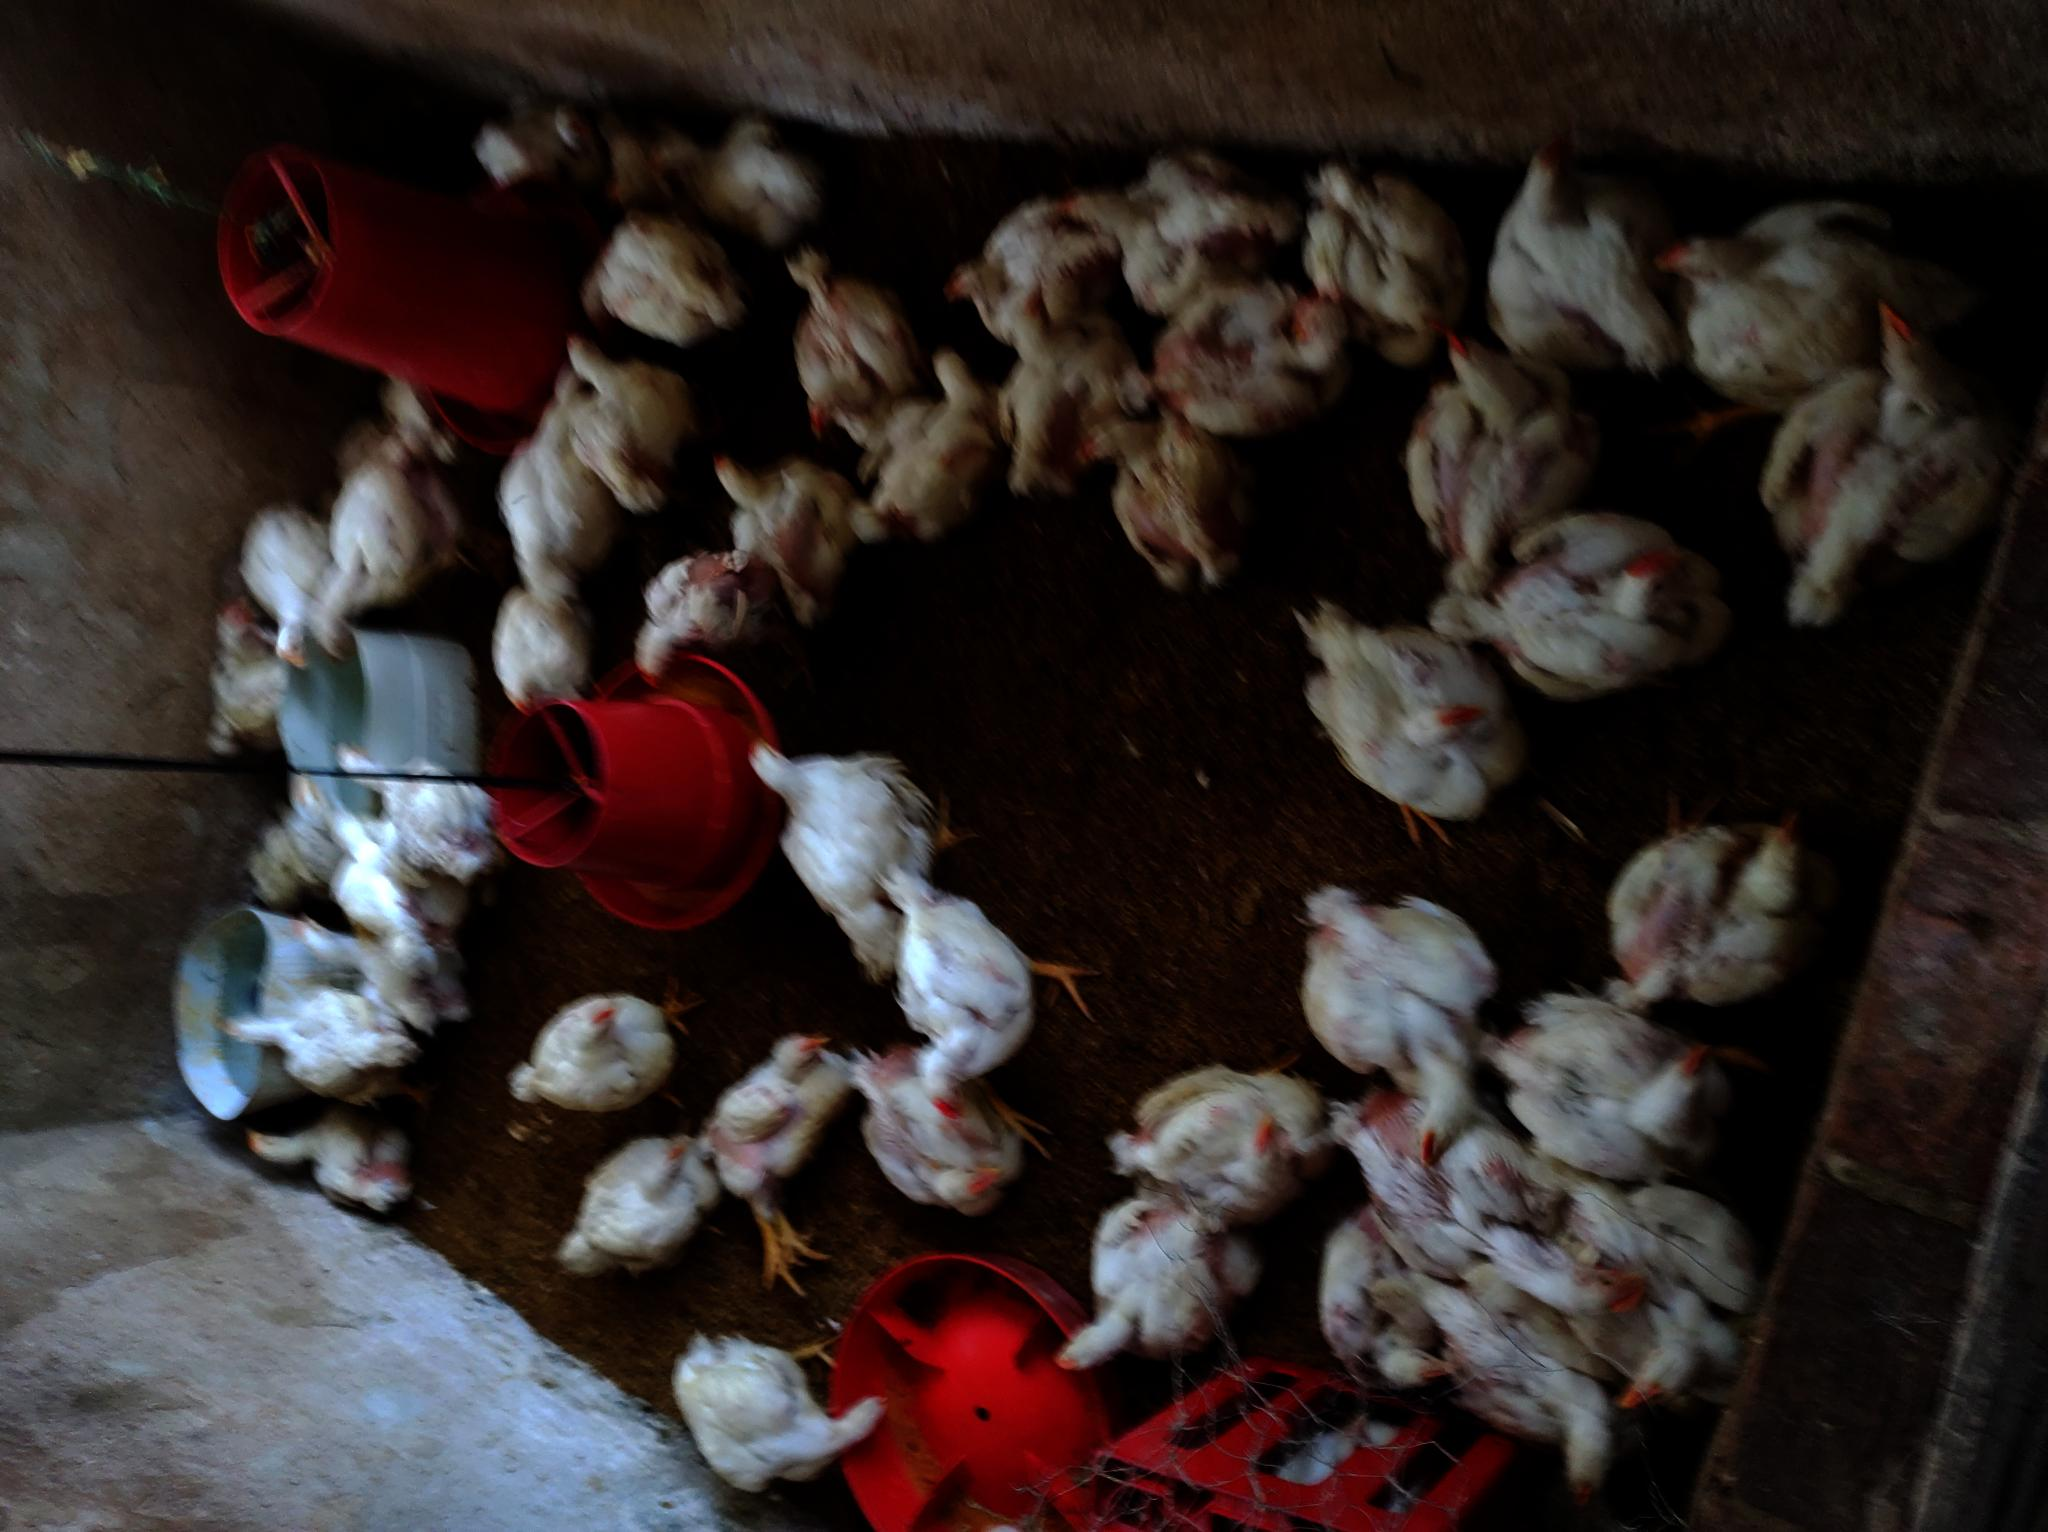Pollos: (1646, 185, 1969, 409), (1760, 291, 1977, 618), (1367, 1115, 1647, 1344), (1414, 1241, 1651, 1497), (1293, 877, 1487, 1165), (1445, 505, 1734, 694), (1295, 587, 1520, 826), (1406, 322, 1602, 583), (1564, 1152, 1755, 1413), (742, 731, 944, 975), (1503, 975, 1728, 1183), (1483, 135, 1675, 377), (1594, 813, 1807, 1017), (1044, 1180, 1256, 1378), (883, 861, 1030, 1123), (1051, 151, 1284, 311), (669, 1336, 885, 1500), (1100, 1065, 1319, 1217), (977, 285, 1126, 504), (1067, 399, 1239, 587), (848, 1044, 1023, 1220), (314, 444, 450, 666), (1150, 270, 1335, 430), (1319, 1202, 1474, 1392), (943, 200, 1137, 348), (711, 434, 861, 626), (1297, 154, 1451, 340), (775, 251, 922, 443), (698, 1028, 853, 1205), (854, 348, 996, 539), (553, 1131, 713, 1286), (500, 982, 679, 1118), (560, 320, 709, 480), (333, 734, 496, 877), (282, 766, 428, 924), (650, 114, 816, 243), (211, 999, 410, 1099), (589, 217, 750, 340), (240, 1110, 417, 1218), (286, 909, 450, 1020), (195, 603, 294, 776), (627, 549, 755, 677), (240, 507, 328, 679), (537, 369, 618, 544), (494, 579, 582, 719)
